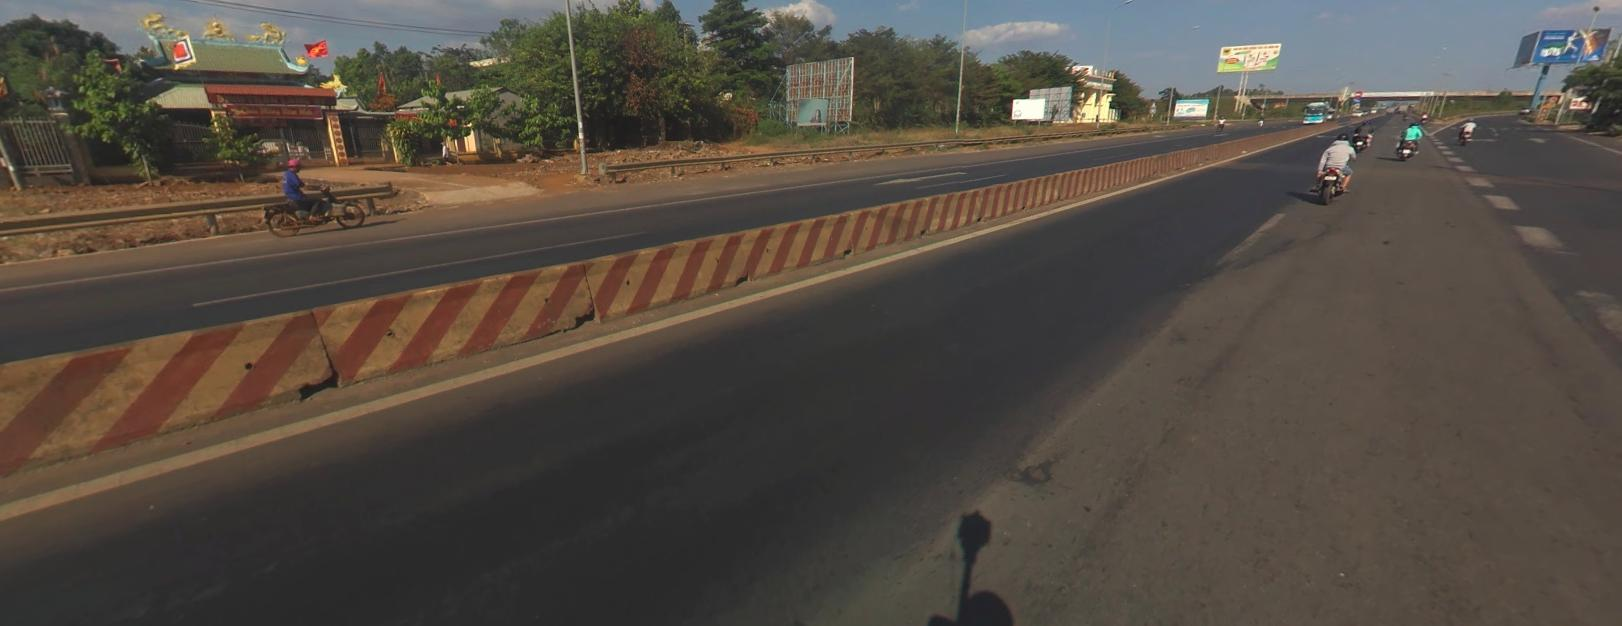Cam nguoc chieu: (1353, 89, 1361, 95)
Hieu lenh: (1352, 96, 1360, 101)
Nguy hiem: (1541, 101, 1552, 107)
